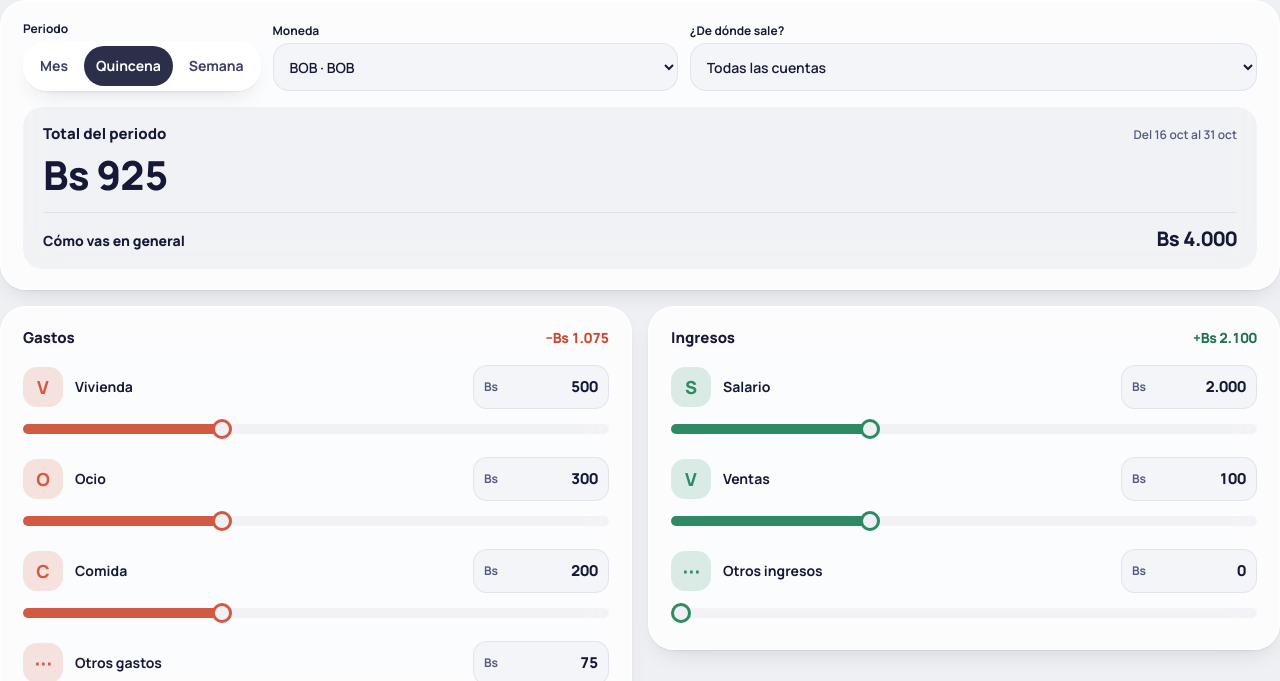
Scenario: What If? simulator › an expense up lowers the total; an income up raises it
Set the slider labelled "Vivienda" to "200": (411, 429) [23,413,609,445]
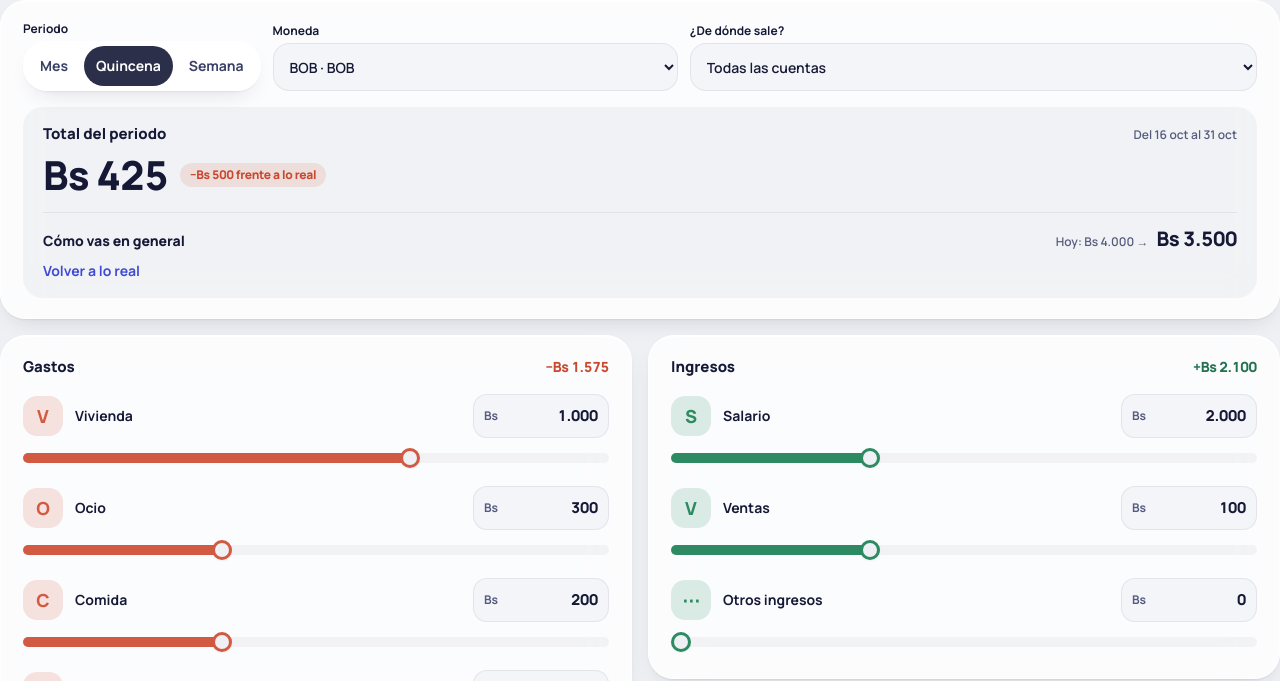
Result: the text with test id "whatif-total-amount" reads "Bs 425" at [43,146,168,202]
Result: the text with test id "whatif-difference" reads "−Bs 500 frente a lo real" at [190,166,316,182]
Set the slider labelled "Salario" to "150": (964, 458) [671,442,1257,474]
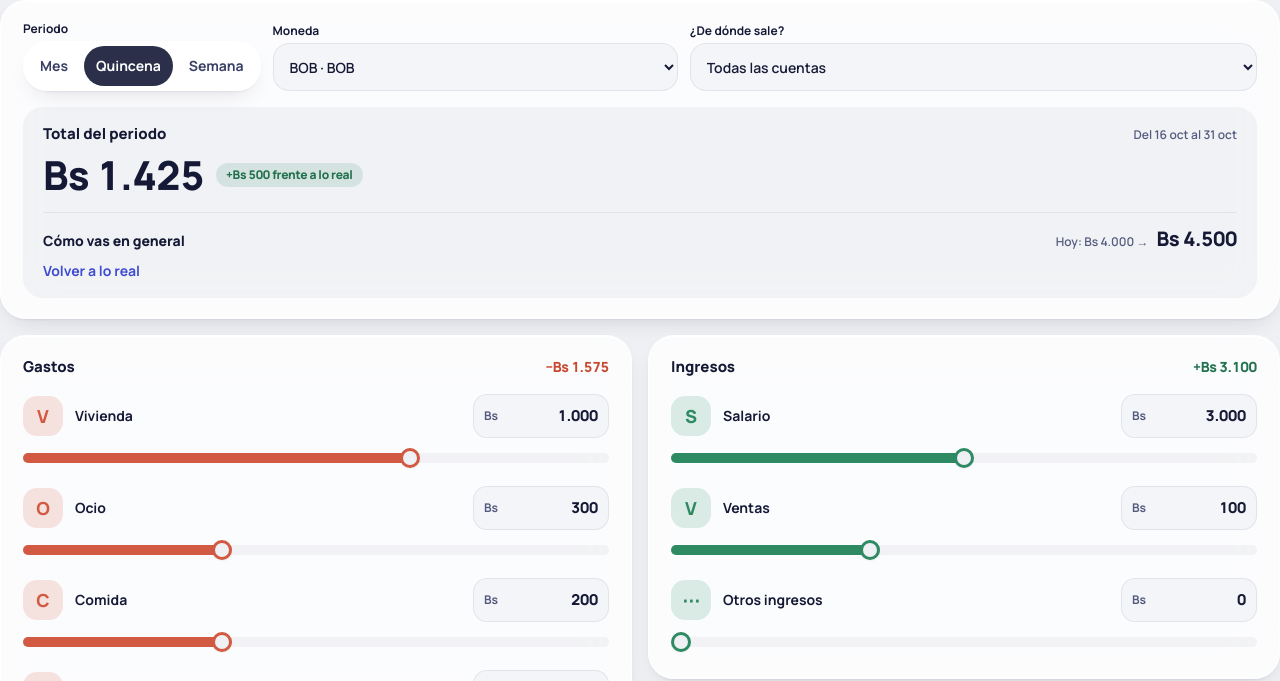
Result: the text with test id "whatif-total-amount" reads "Bs 1.425" at [43,146,204,202]
Click the button "Volver a lo real": (92, 270) [43,260,140,280]
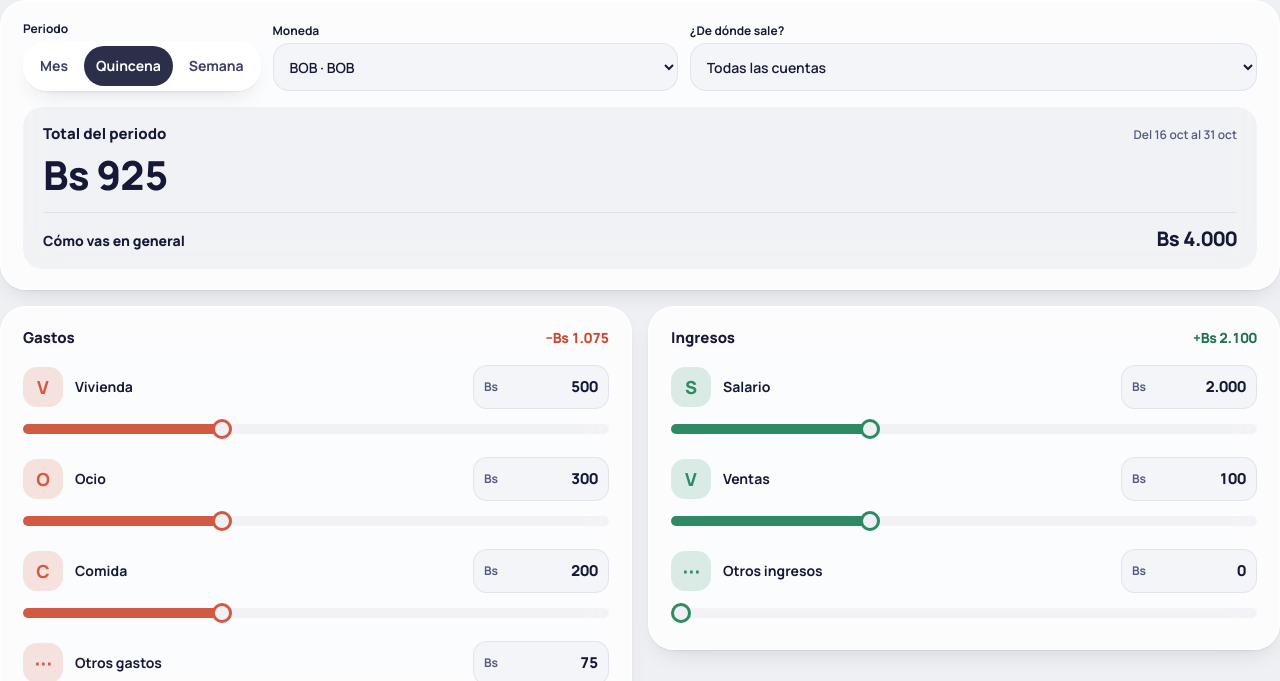
Result: the text with test id "whatif-total-amount" reads "Bs 925" at [43,146,168,202]
